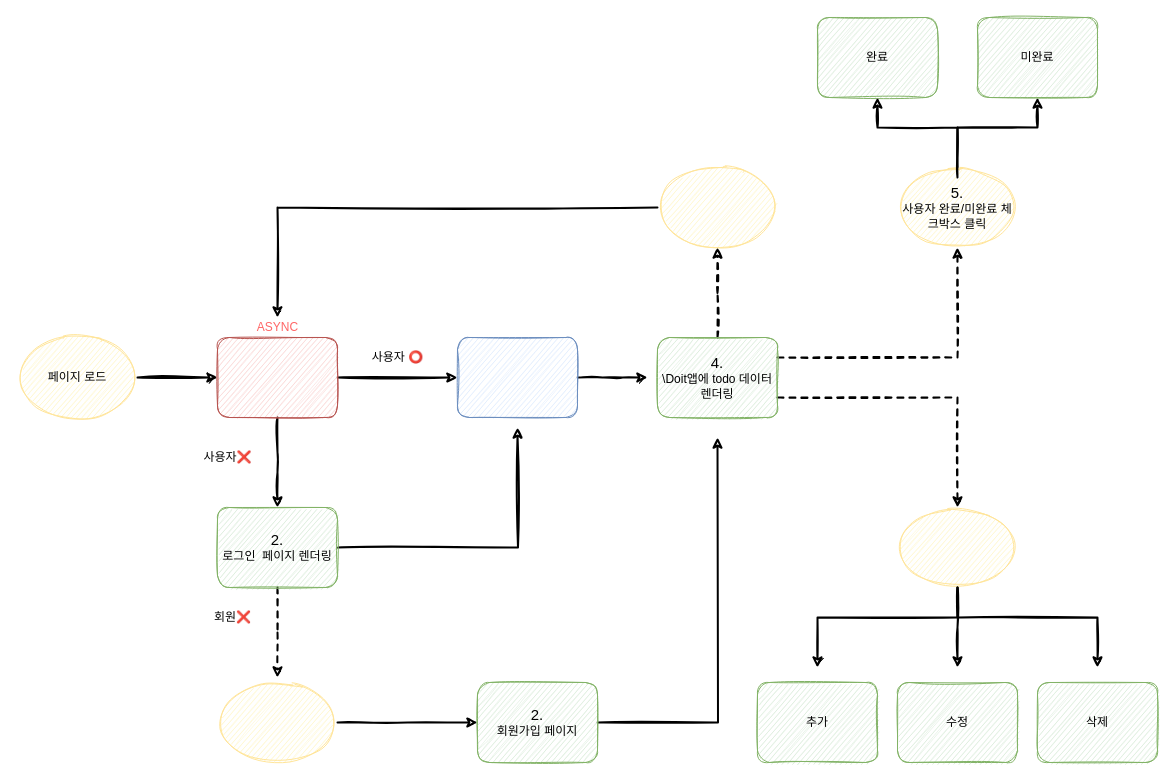
Some shapes in this 1175 by 780 pixel diagram are drawn without their labels. Here are the shapes that lost their labels. From the top down, the centre of each, then its label:
At point (717, 207): "사용자 로그아웃 클릭".
At point (277, 377): "1. 서버에 사용자 로그인 여부 조회".
At point (517, 377): "3. 데이터 베이스에서 투두 데이터 조회.".
At point (957, 547): "6. 사용자 추가,수정,삭제 클릭".
At point (277, 722): "회원가입 클릭".
